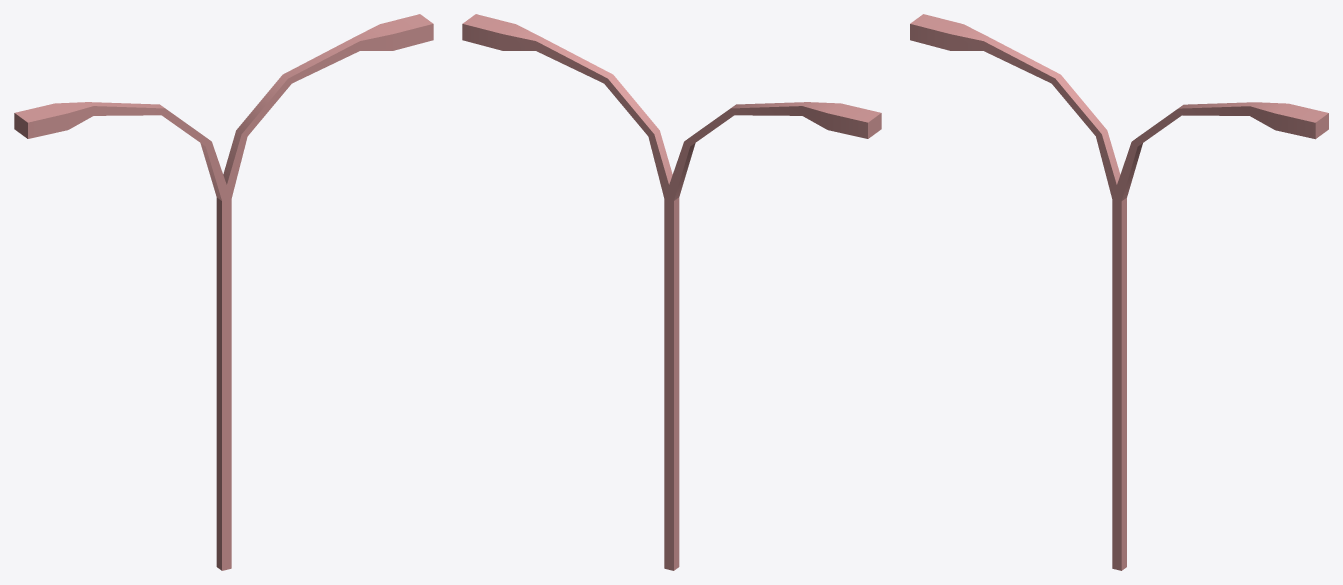
File: LightPole_A_C_COL.fbx
3 views of the same model, side by side, from view 1: azimuth 30°, elevation 25°; view 2: azimuth 150°, elevation 25°; view 3: azimuth 330°, elevation 25° (orthographic).
Parts seen in each view (by area): view 1: LightPole_A_C_COL; view 2: LightPole_A_C_COL; view 3: LightPole_A_C_COL.
Part boxes in pixels (x1,y1,x2,y2): LightPole_A_C_COL: (14, 14, 433, 570); LightPole_A_C_COL: (462, 14, 881, 570); LightPole_A_C_COL: (910, 14, 1328, 570).
Size of the model in its own units: 593 by 698 by 34.15.
